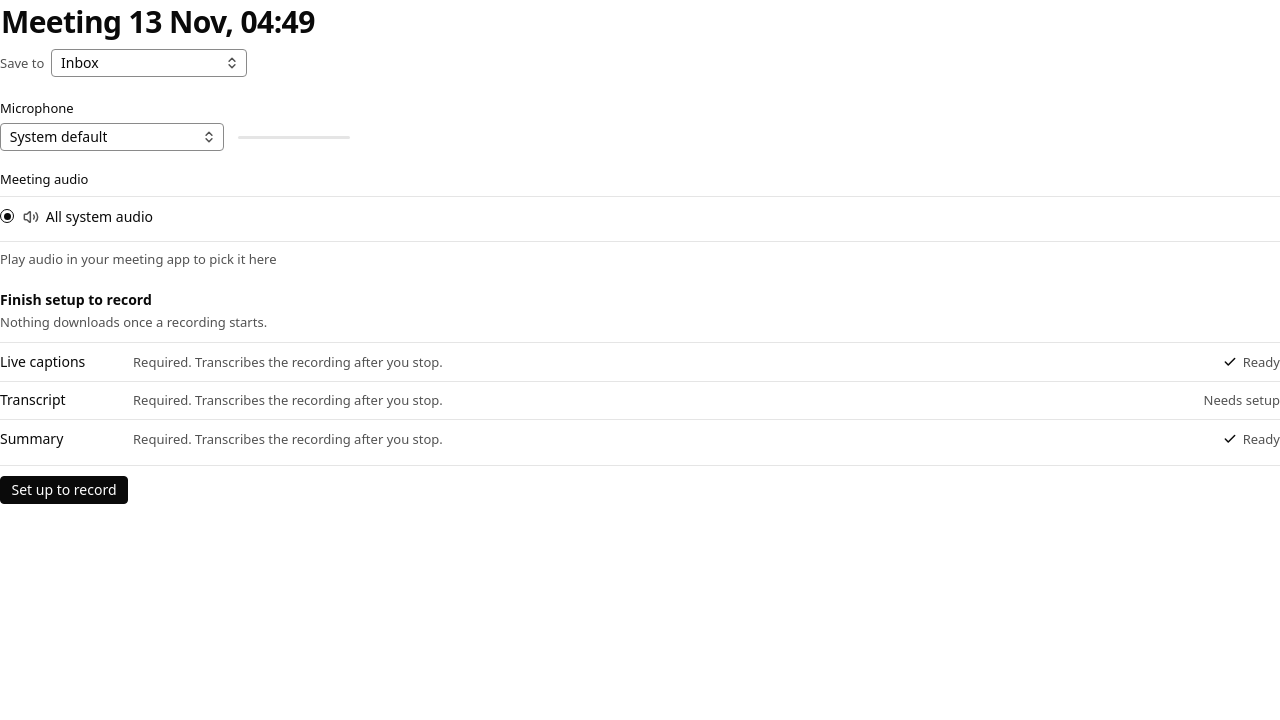
Test case: RecordRoute idle repeats › keeps a cancelled setup notice with the setup panel showing
This screenshot has width=1280, height=720.
Click the button "Set up to record": click(64, 490) [0, 476, 128, 504]
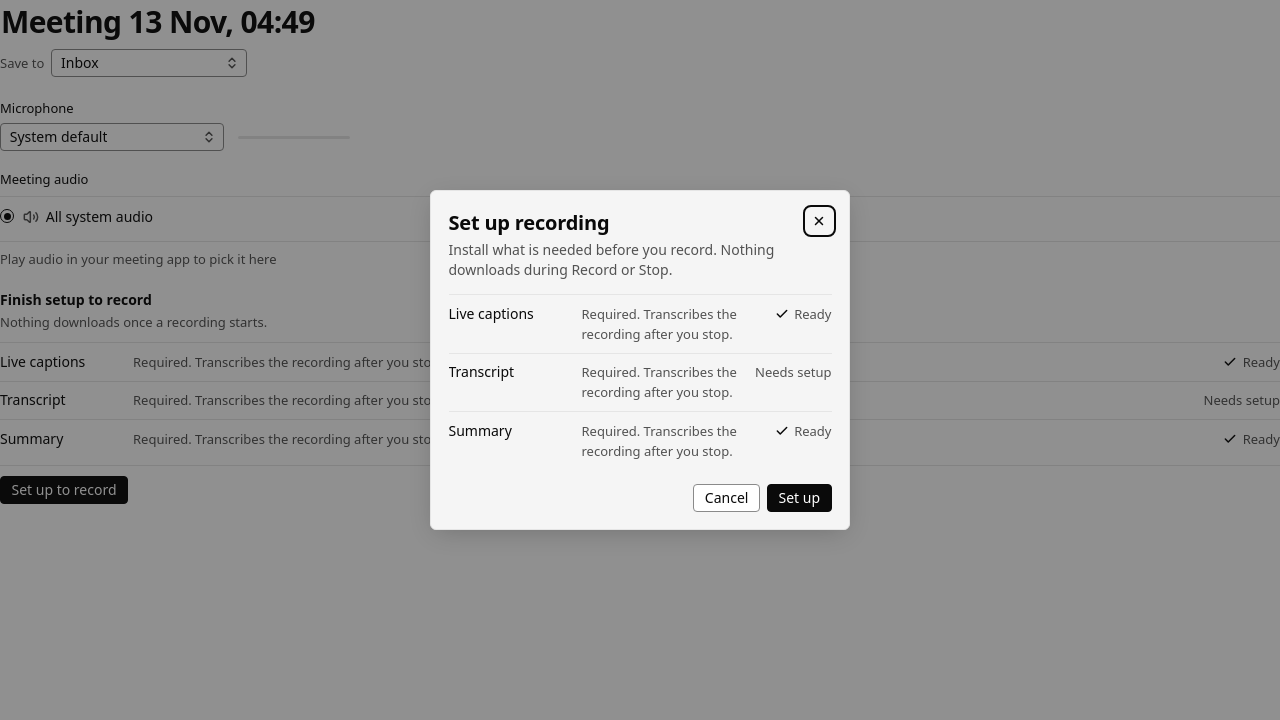
Click the button "Cancel": click(727, 498) [693, 484, 760, 512]
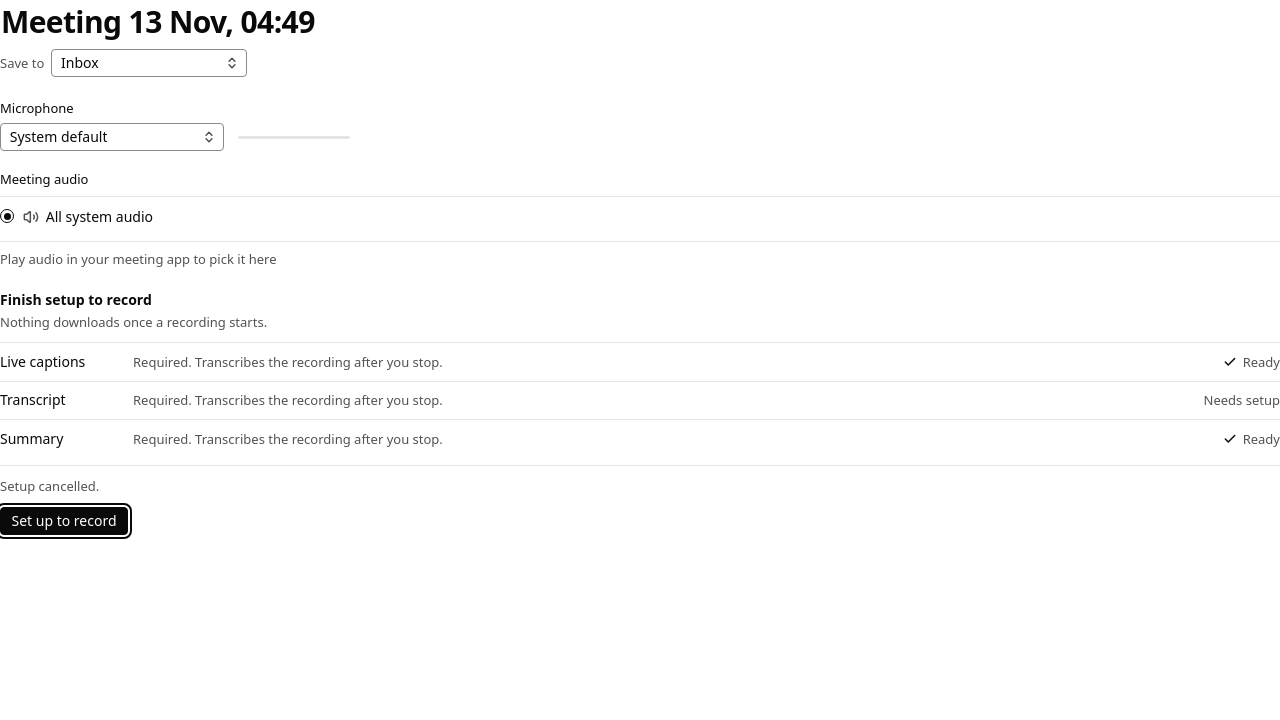
expect the text "Setup cancelled." is shown: met, box [0, 477, 99, 495]
